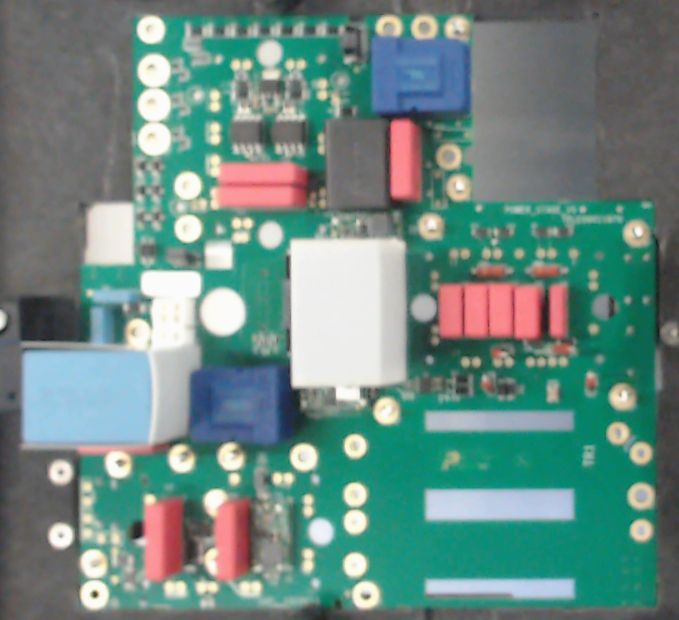comp1: (369, 36, 471, 119), (188, 367, 293, 444)
comp2: (142, 501, 183, 579), (388, 118, 424, 203), (217, 496, 252, 579), (217, 186, 310, 209), (218, 162, 310, 185), (513, 281, 541, 342), (488, 282, 515, 344), (462, 282, 489, 343), (438, 282, 464, 340), (548, 284, 569, 342)
comp3: (325, 117, 392, 210)
comp4: (19, 340, 203, 448), (289, 237, 408, 388)
